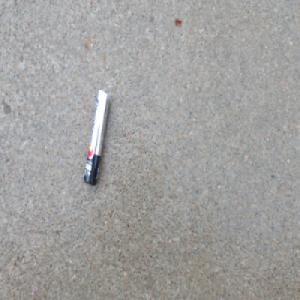Battery: (81, 87, 110, 188)
